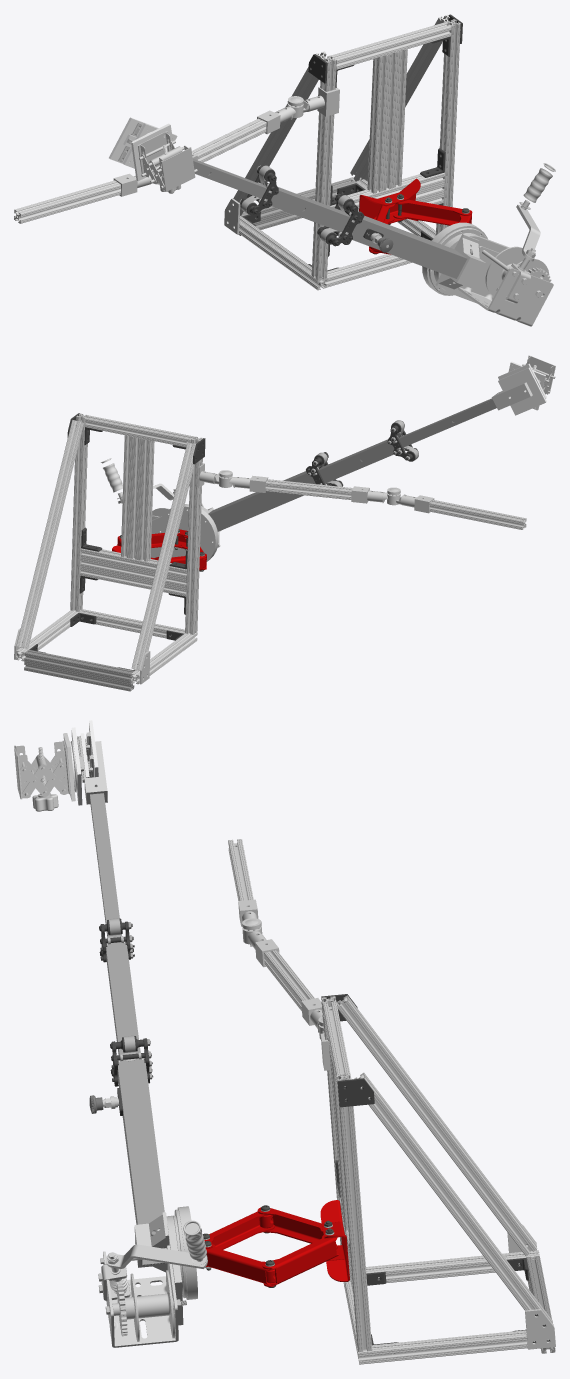
Rendered from inverted-payload-system-v2.glb.
The picture shows the model from 3 angles, top to bottom: view 1: azimuth 30°, elevation 25°; view 2: azimuth 150°, elevation 25°; view 3: azimuth 270°, elevation 25°; orthographic projection. The views are drawn at different scales.
Visible parts, largest first — view 1: Antenna tracker; view 2: Antenna tracker; view 3: Antenna tracker.
Boxes of the visible parts, bbox=[...] form: Antenna tracker: bbox=[14, 14, 555, 326]; Antenna tracker: bbox=[14, 355, 555, 691]; Antenna tracker: bbox=[14, 720, 555, 1364].
Bounding box in the file's own units: 1.32 × 0.7745 × 0.9752.
